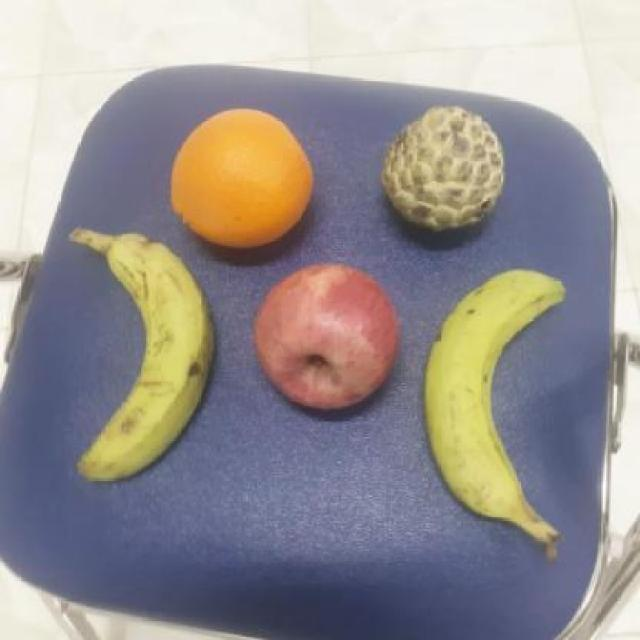apple: (253, 261, 402, 410)
banana: (422, 266, 573, 525), (69, 229, 218, 486)
oren: (169, 105, 317, 249)
sugar apple: (379, 103, 507, 234)
